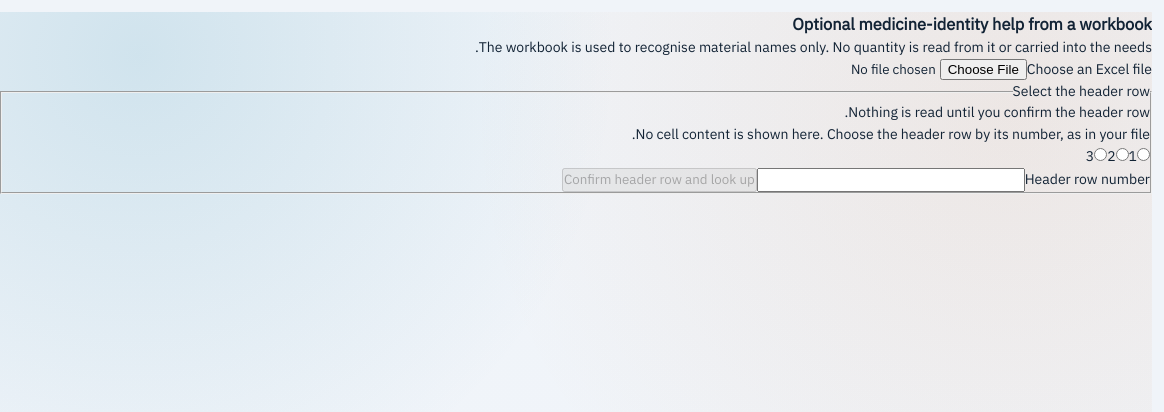
results are suggestions the person acts on › a failed lookup says "lookup failed", never "not registered"
The image size is (1164, 412).
Click the radio button named "Row 1".
click(1144, 154)  # box [1137,148,1150,161]
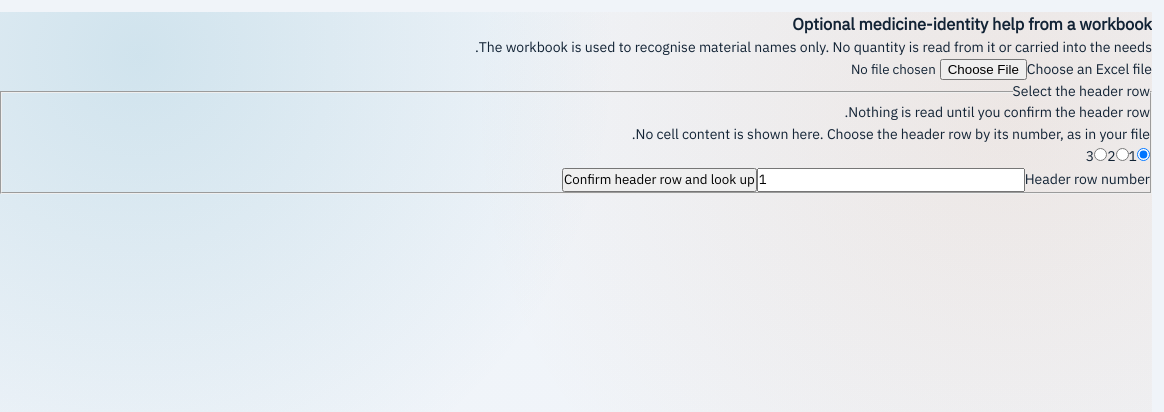
Click the button "Confirm header row and look up".
click(659, 180)  # box [562,168,757,192]
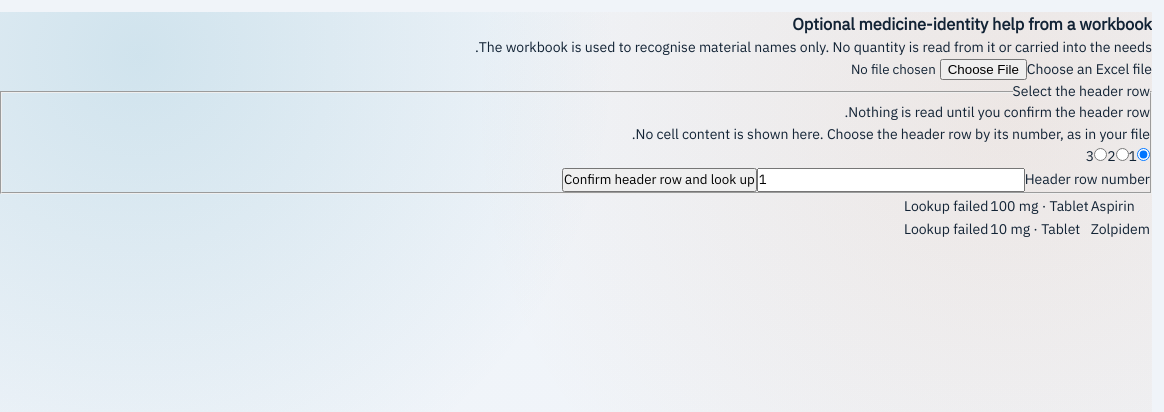
Now the text "Lookup failed" is shown 2 times, box [904,196,988,217]; [904,219,988,241]
